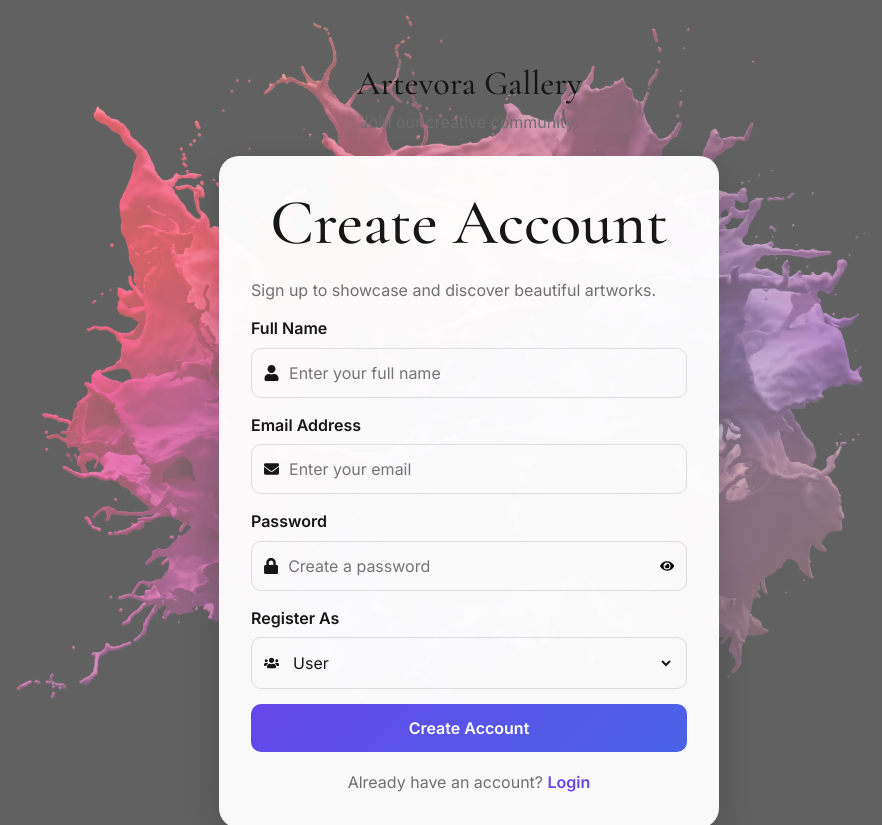
it: Login page › should show validation error when password is too short
The image size is (882, 825).
In the field with placeholder "Enter your full name": (482, 373) [289,349,674,397], type "Test User"
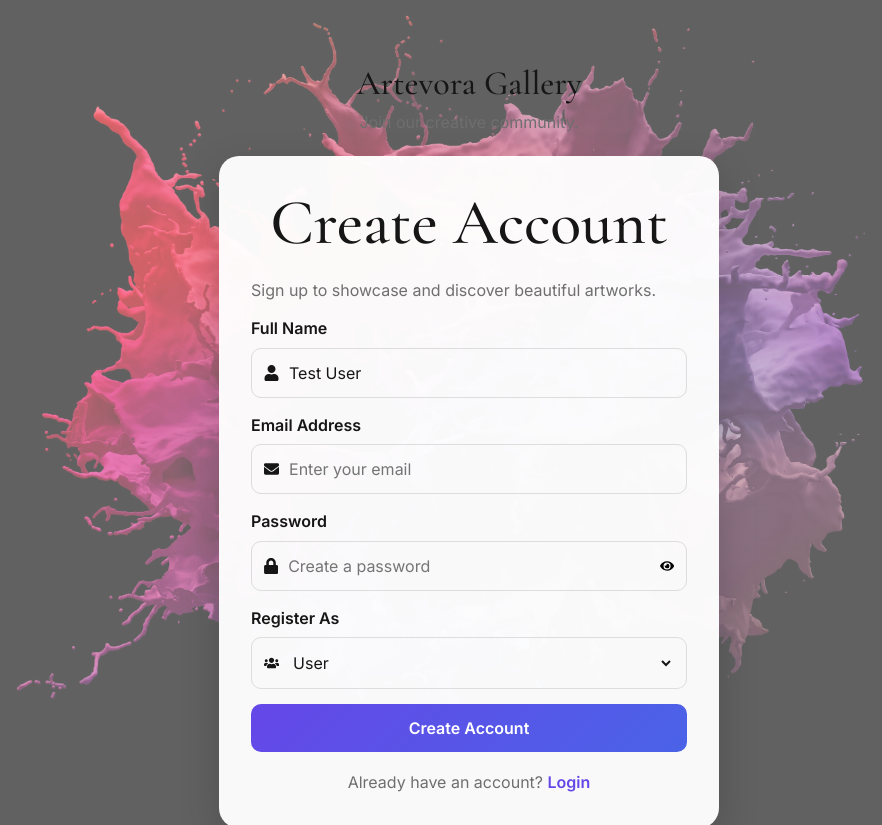
In the field with placeholder "Enter your email": (482, 469) [289,445,674,493], type "test@example.com"
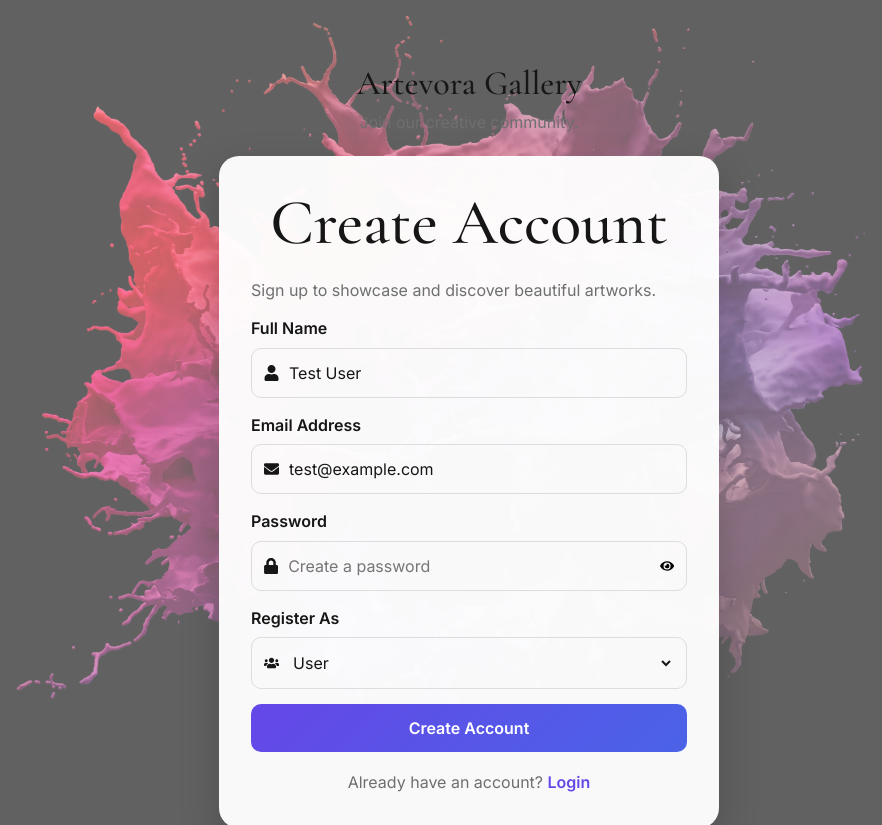
In the password field with placeholder "Create a password": (469, 566) [288,542,650,590], type "12345"
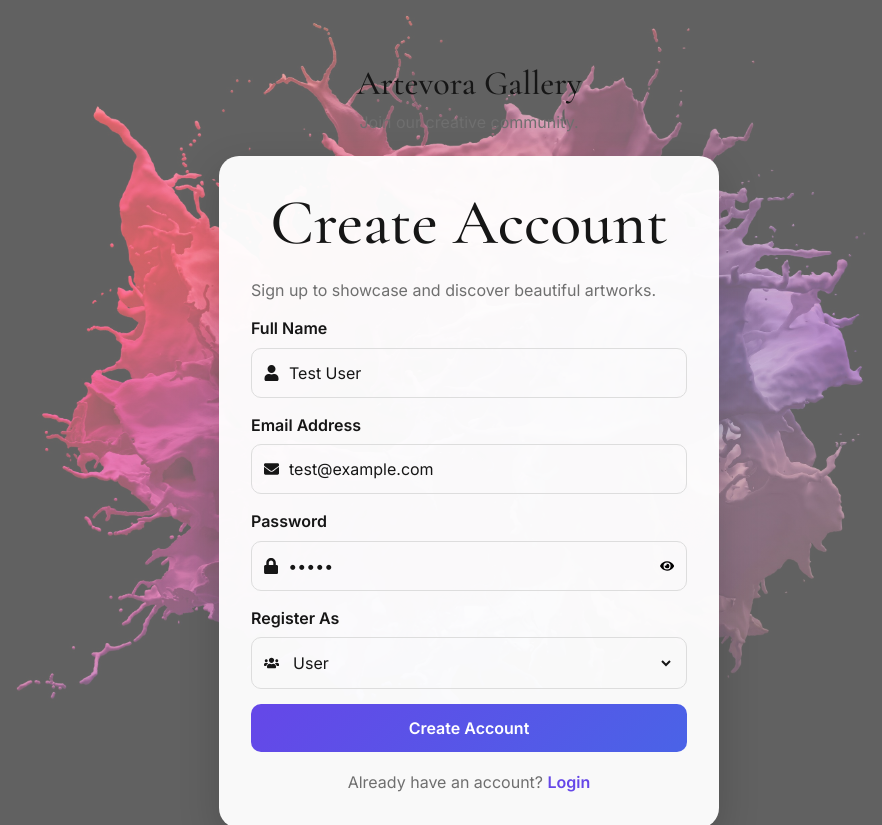
Click the button "Create Account": (469, 728) [251,704,687,752]
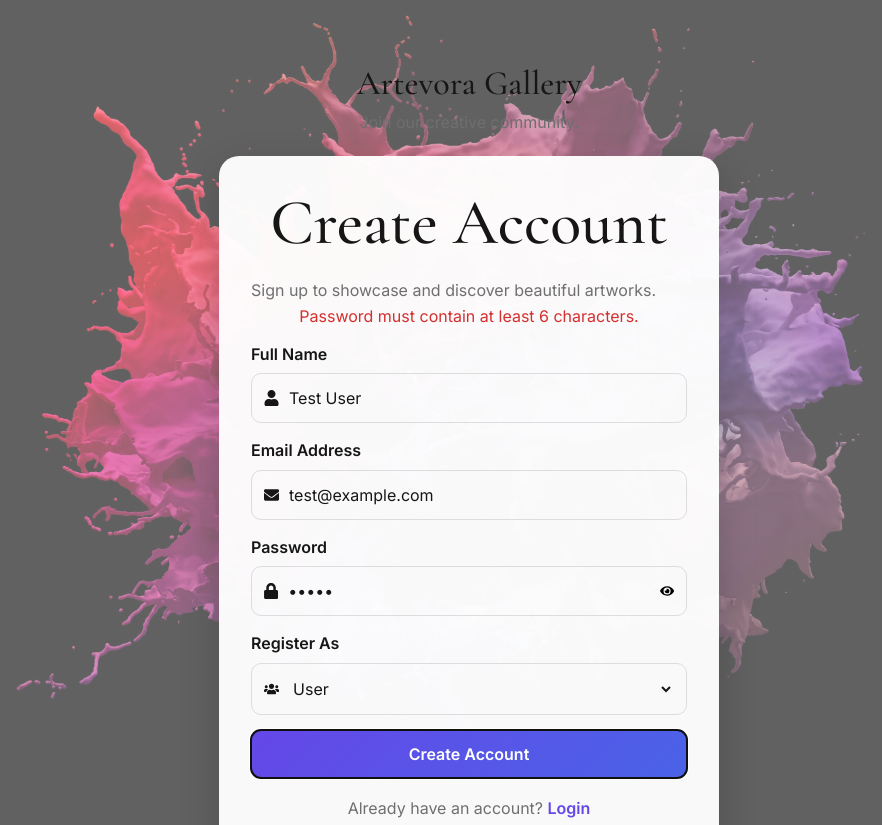
Expected: the text "Password must contain at least 6 characters." is shown, [299,306,639,326]
